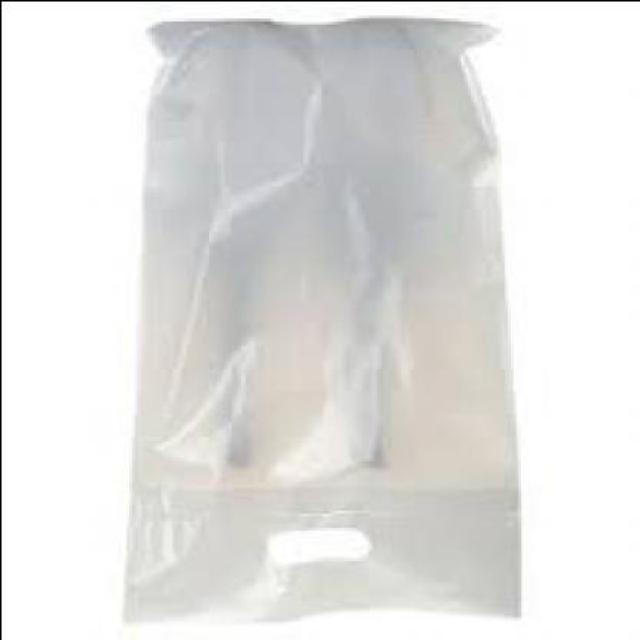PLASTIC: (125, 20, 524, 626)
